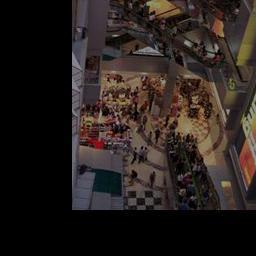Escaleras: (108, 4, 226, 81), (119, 0, 231, 40)
